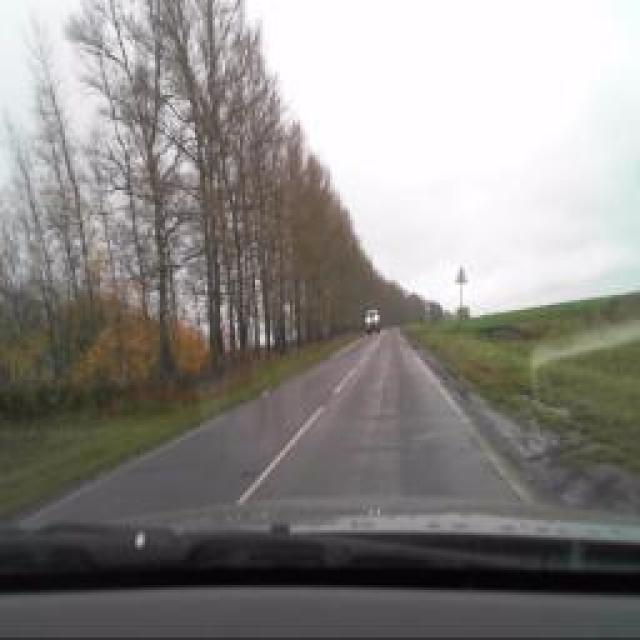sign: (455, 262, 467, 290)
